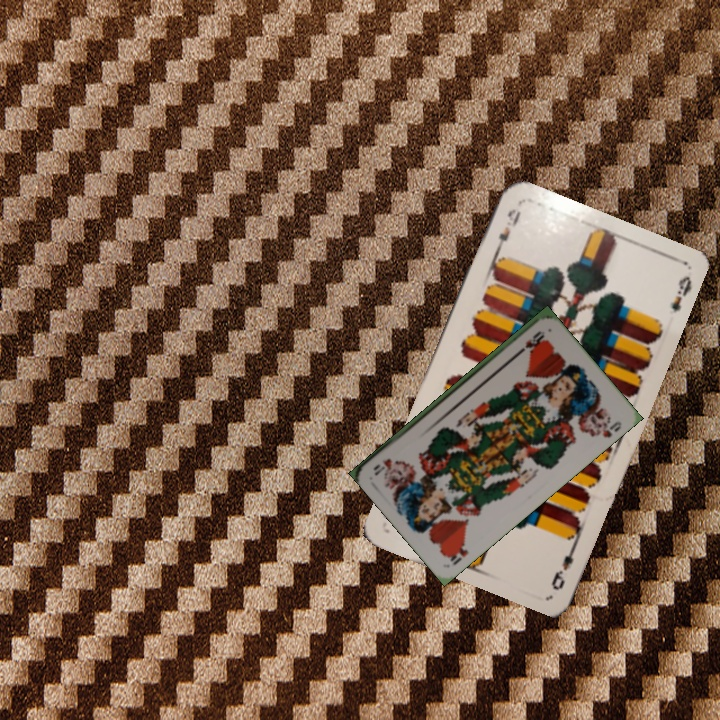E9: (547, 537, 580, 593), (491, 204, 524, 257)
HO: (514, 327, 546, 357), (443, 537, 471, 568)
